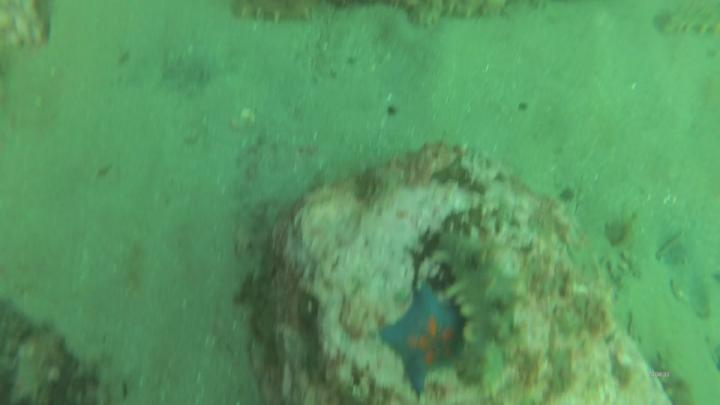holothurian: (429, 227, 522, 391)
starfish: (382, 275, 468, 396)
